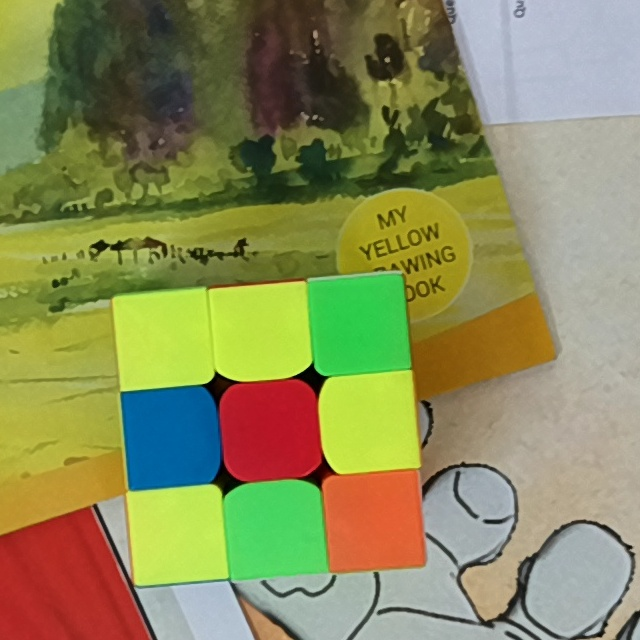tile: (320, 282, 403, 366), (121, 295, 204, 378), (333, 480, 417, 562), (233, 491, 318, 571), (131, 396, 212, 479), (133, 494, 216, 573), (333, 381, 412, 463), (230, 391, 312, 469), (222, 292, 302, 368)
